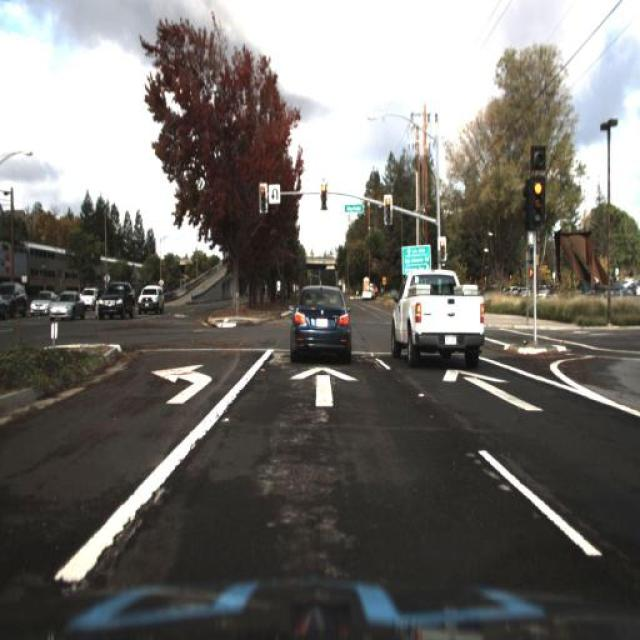car: (393, 265, 487, 364), (287, 286, 351, 366), (95, 278, 133, 322), (97, 282, 132, 320), (48, 287, 83, 321), (136, 283, 165, 317), (49, 292, 82, 318), (3, 283, 28, 317), (10, 284, 30, 320), (140, 286, 164, 314), (28, 291, 52, 317), (30, 291, 54, 315), (83, 284, 96, 315)
trafficLight-RedLeft: (531, 176, 544, 224), (535, 176, 547, 218), (315, 184, 330, 213), (435, 238, 449, 267), (258, 184, 270, 216), (383, 192, 395, 222), (318, 182, 329, 214), (436, 234, 446, 267), (383, 194, 392, 223)
trafficLight-Yellow: (258, 186, 271, 214)
